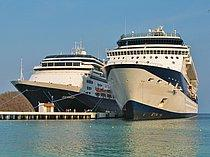Ship: (104, 25, 205, 124), (6, 40, 129, 119)
